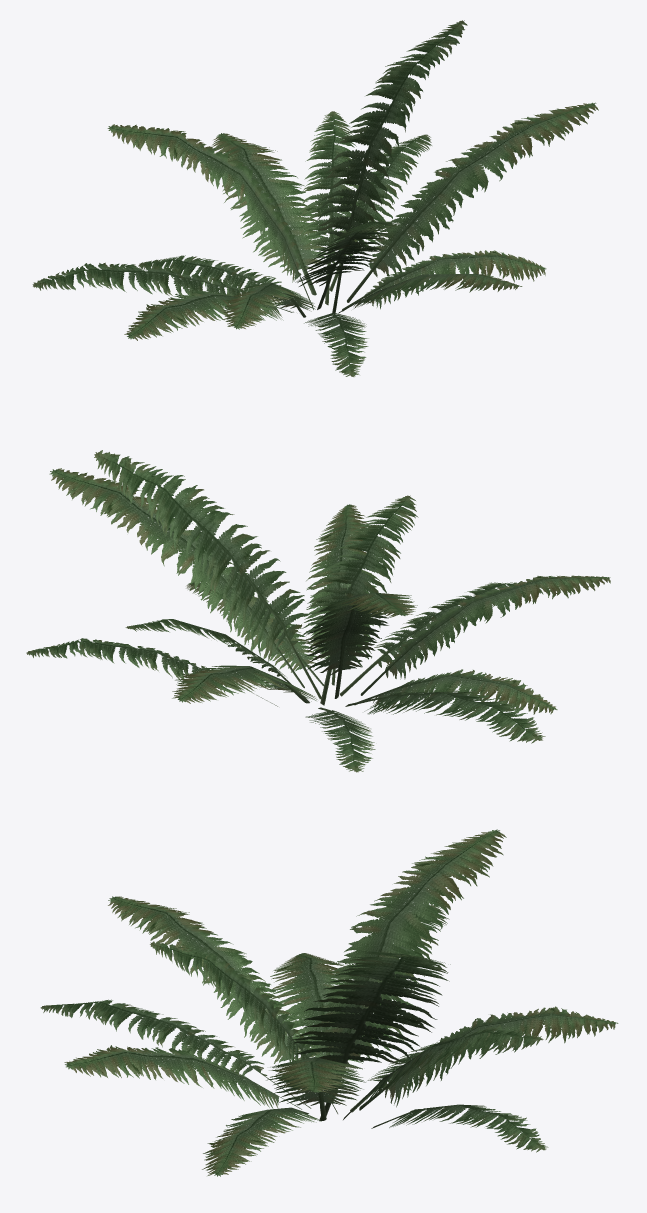
File: SM_Fern_ A.fbx
3 views of the same model, one above another, from view 1: azimuth 30°, elevation 25°; view 2: azimuth 150°, elevation 25°; view 3: azimuth 270°, elevation 25° (orthographic). The views are drawn at different scales.
Visible parts, largest first — view 1: SM_Fern_ A; view 2: SM_Fern_ A; view 3: SM_Fern_ A.
Boxes of the visible parts, x1,y1,x2,y2 form: SM_Fern_ A: [32, 20, 598, 376]; SM_Fern_ A: [26, 450, 610, 772]; SM_Fern_ A: [40, 829, 618, 1176].
Size of the model in its own units: 178 by 82.19 by 146.
